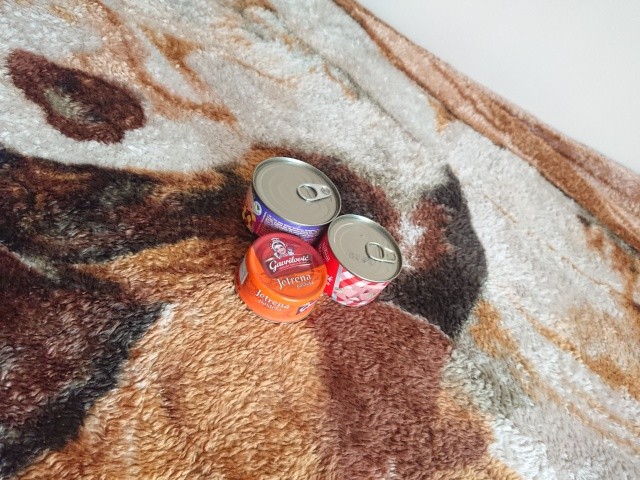Gavrilovic Pork Liver Pate 100g: (232, 231, 329, 325)
Giana Tuna Salad Mexico 185g: (239, 154, 345, 258)
Podravka Luncheon Meat 150g: (309, 211, 404, 310)
